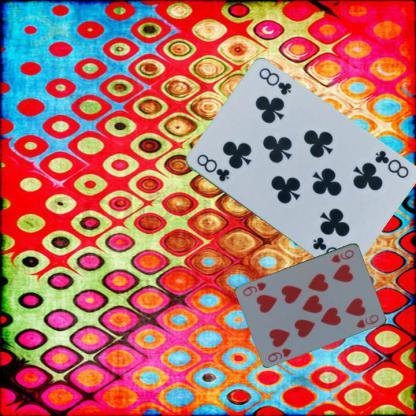8c: (194, 152, 232, 184), (372, 148, 410, 180)
9h: (328, 246, 356, 264), (265, 346, 292, 364)
